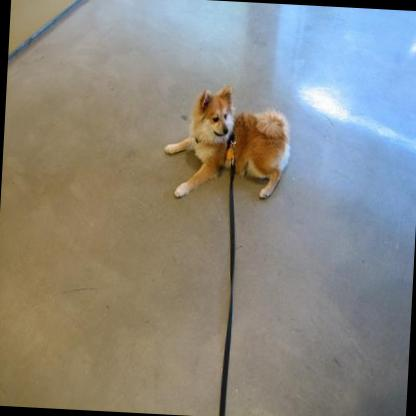Pomeranian: (160, 81, 292, 205)
